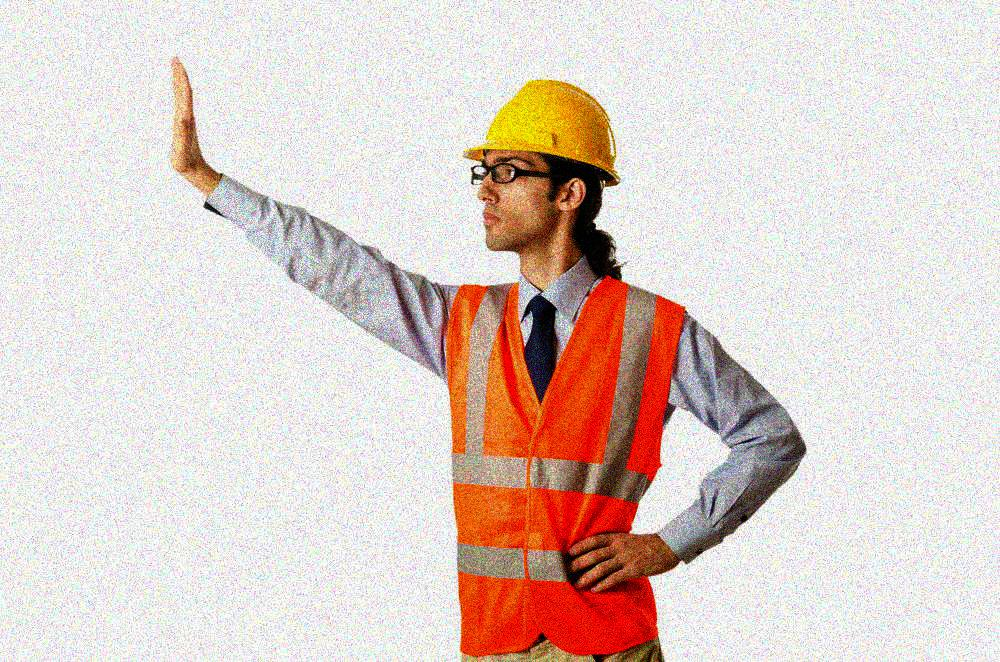helmet: (458, 77, 627, 253)
